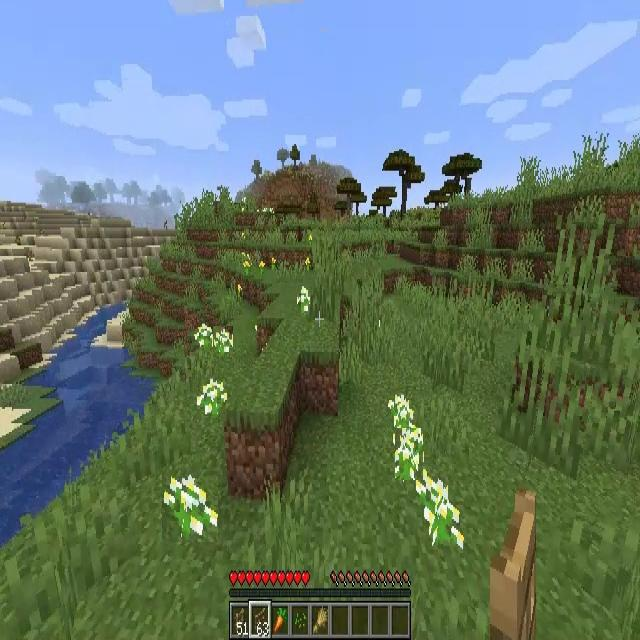flower: (162, 476, 218, 542), (416, 476, 464, 548), (395, 428, 423, 480), (197, 379, 228, 418), (387, 392, 412, 428), (213, 326, 233, 361), (195, 323, 211, 353), (298, 284, 310, 313), (244, 260, 252, 278), (237, 283, 243, 302), (258, 259, 264, 277), (305, 257, 311, 274), (271, 255, 276, 272), (308, 234, 314, 247)
